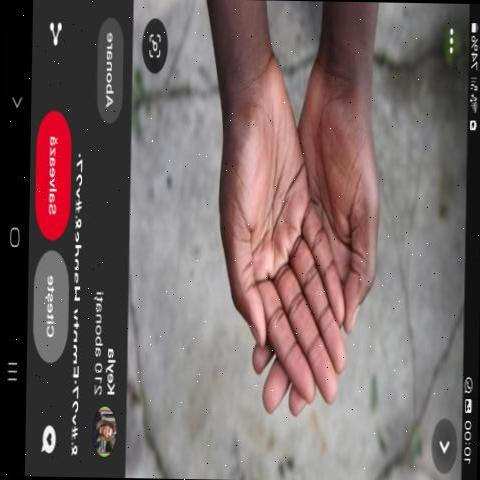Hands: (175, 52, 393, 426)
